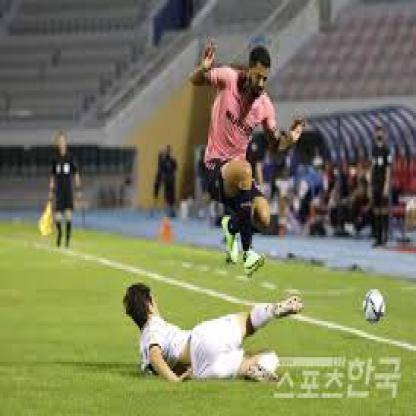Fall_Down: (124, 284, 304, 390)
